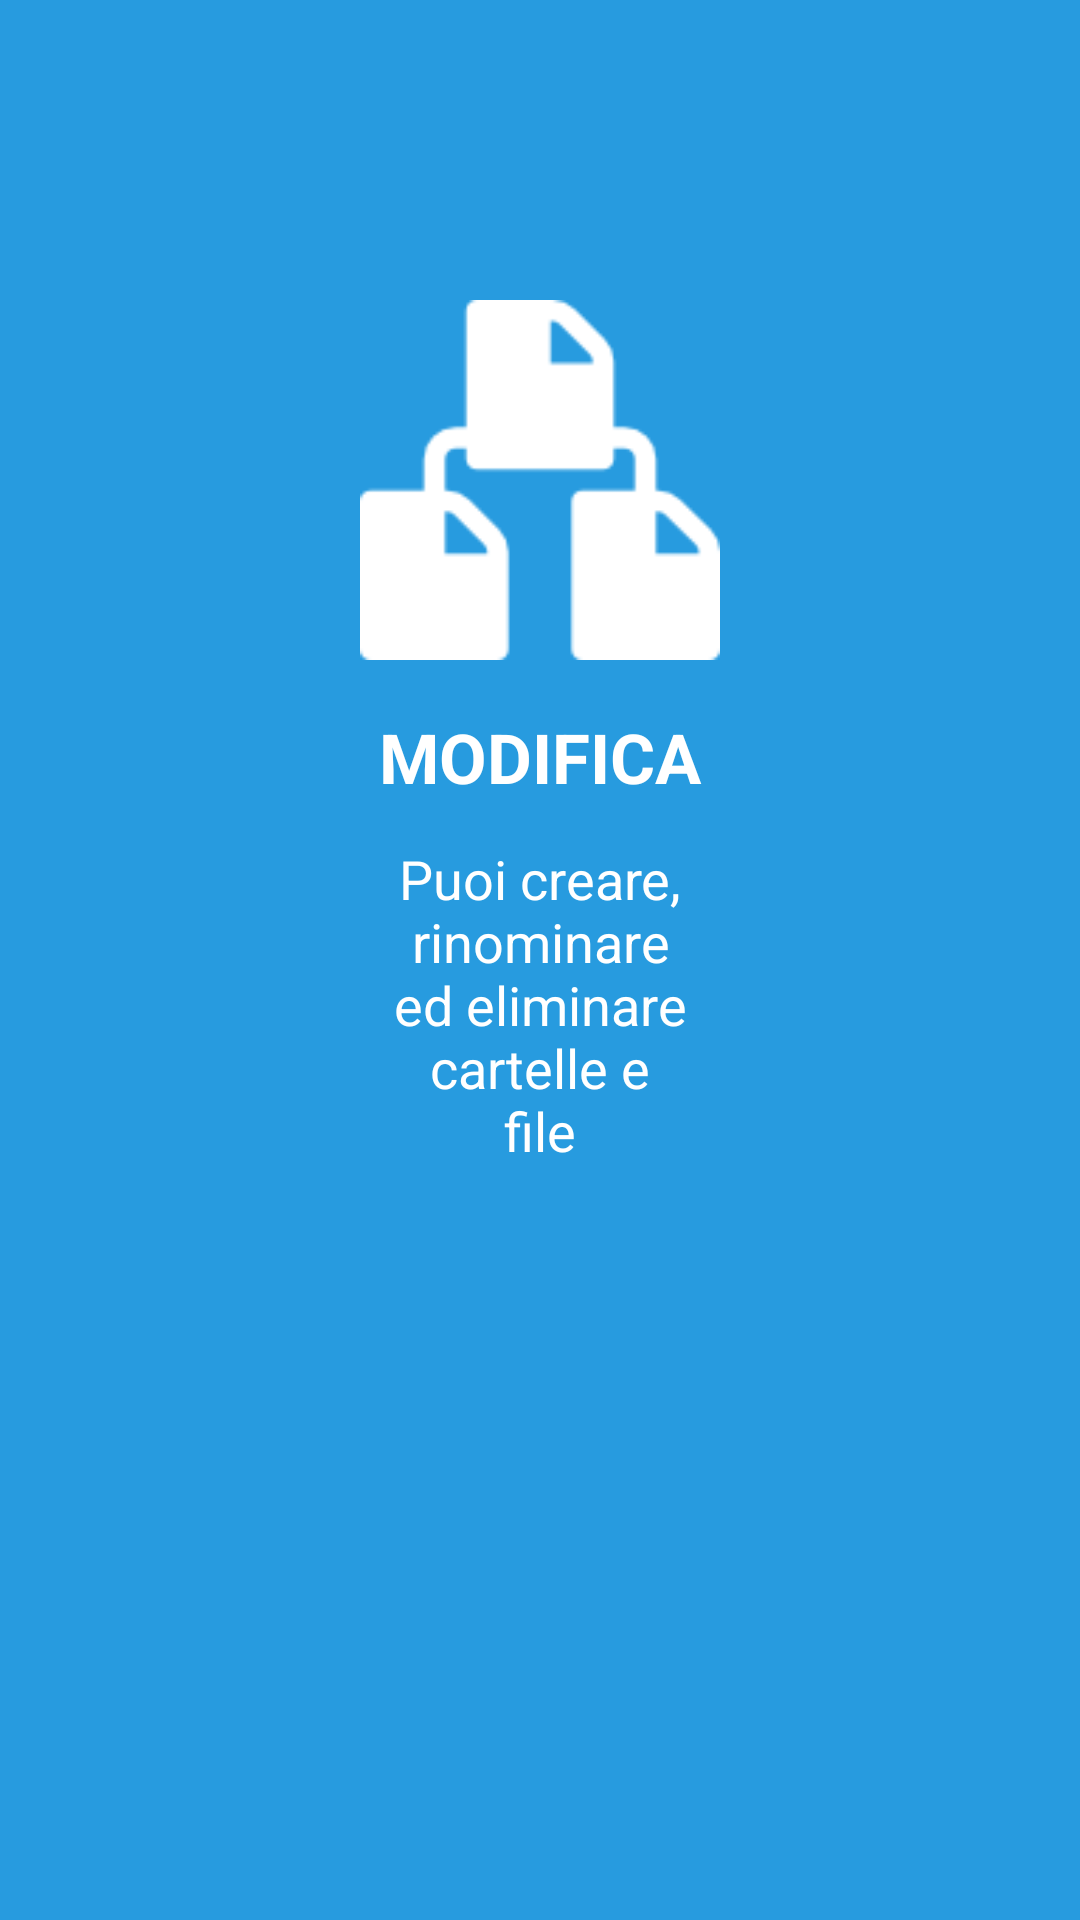

Icon bounding boxes for this 1080x1920 phone screenshot, format detection(x1, y1, x2, y2):
diagram: detection(360, 300, 720, 660)
